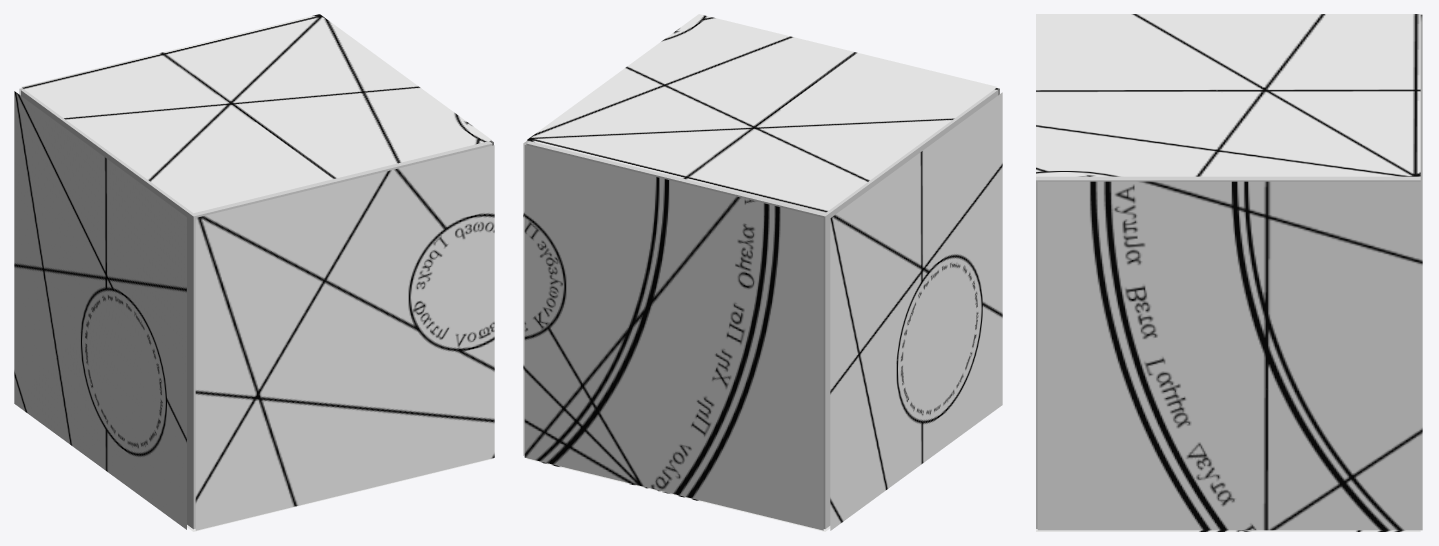
Rendered from Magic.gltf.
3 views of the same model, side by side, from view 1: azimuth 30°, elevation 25°; view 2: azimuth 150°, elevation 25°; view 3: azimuth 270°, elevation 25° (orthographic). The views are drawn at different scales.
Parts seen in each view (by area): view 1: Cube; view 2: Cube; view 3: Cube.
Boxes of the visible parts, x1,y1,x2,y2 form: Cube: [14, 14, 494, 531]; Cube: [523, 14, 1002, 531]; Cube: [1036, 14, 1422, 531].
Bounding box in the file's own units: 2.05 × 2.04 × 2.04.
Materials: 7 (6 with a texture image).
